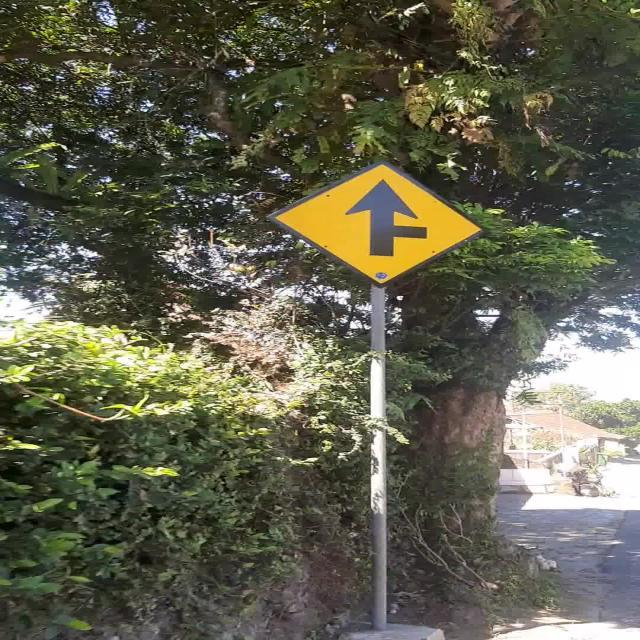Persimpangan 3 Prioritas Kanan: (267, 160, 485, 288)
